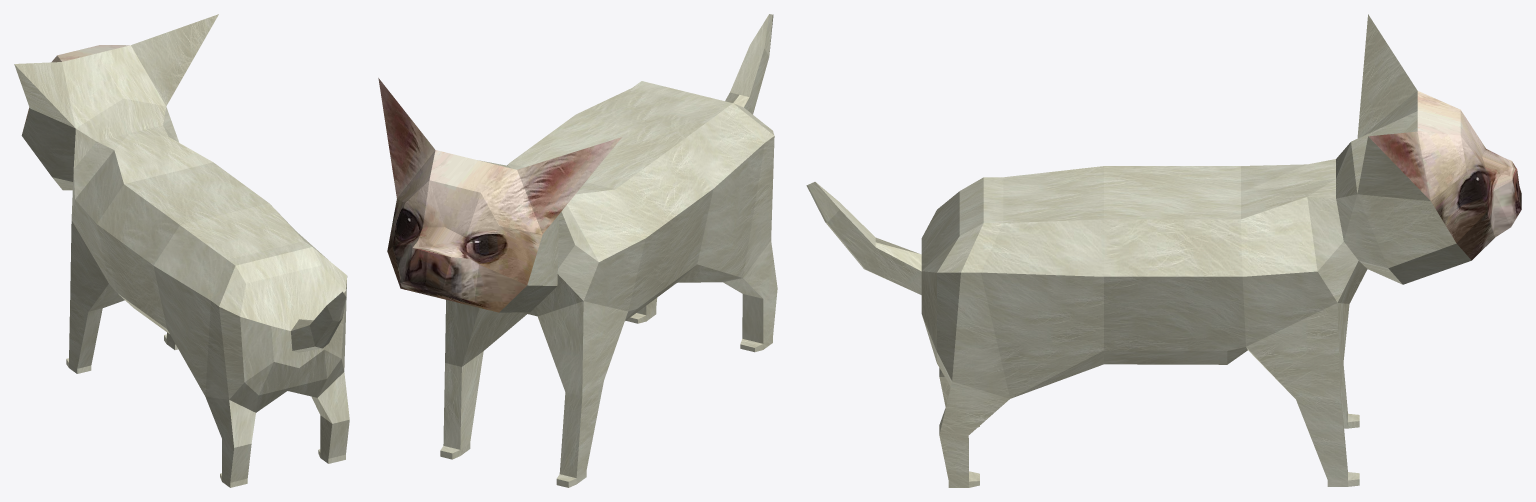
Rendered from pixelle.fbx.
3 views of the same model, side by side, from view 1: azimuth 30°, elevation 25°; view 2: azimuth 150°, elevation 25°; view 3: azimuth 270°, elevation 25° (orthographic). The views are drawn at different scales.
Parts seen in each view (by area): view 1: Pixelle; view 2: Pixelle; view 3: Pixelle.
Part boxes in pixels (x1,y1,x2,y2): Pixelle: (14, 14, 349, 487); Pixelle: (378, 14, 777, 487); Pixelle: (806, 14, 1521, 487).
Size of the model in its own units: 323 by 466 by 798.
